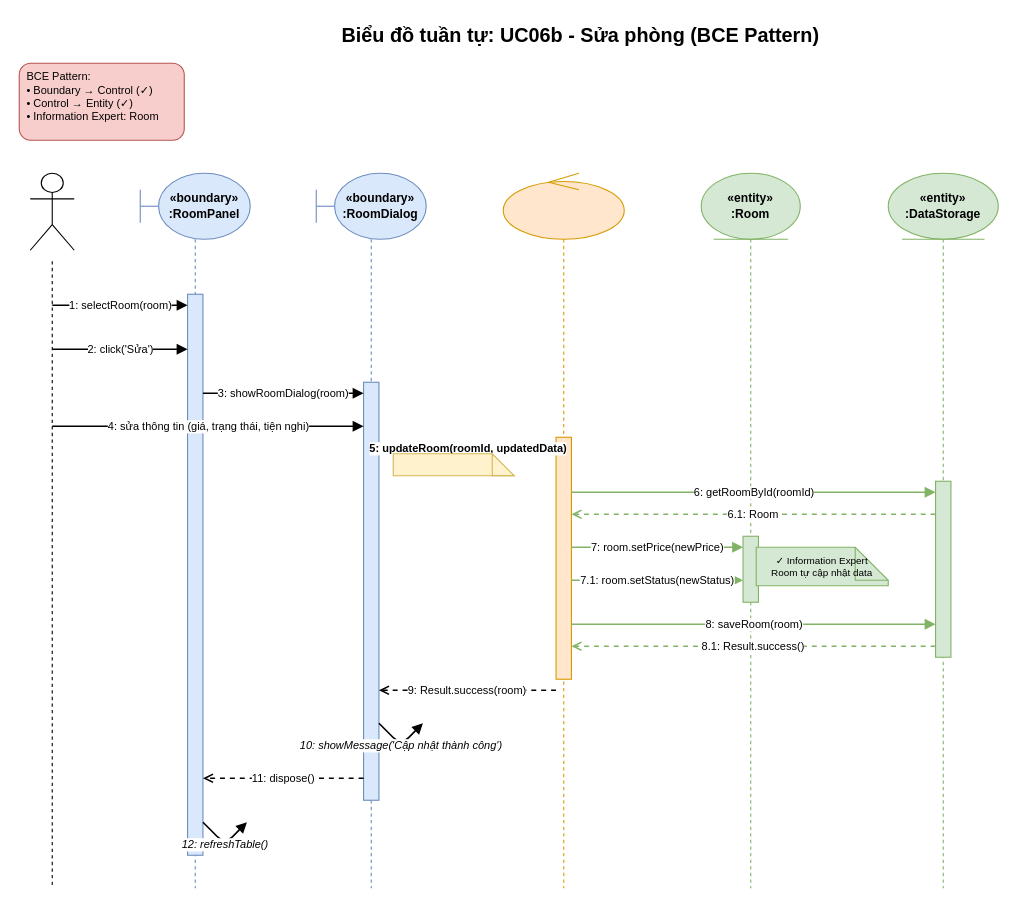
The diagram is 1018 pixels wide and 909 high, and some of its shapes have lost their labels. The centre of each missing label's shape, as x and y in pixels:
Quản lý: the point at 51,211
«control» :RoomManager: the point at 563,205
✓ Boundary → Control: the point at 453,464
